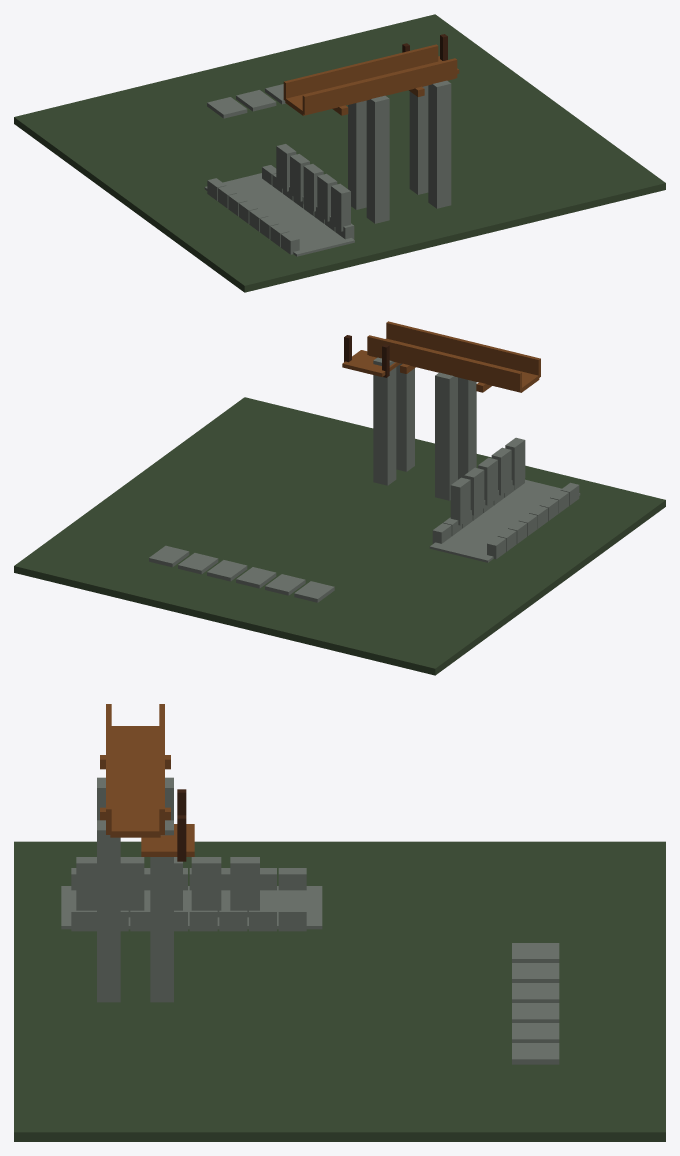
File: race.obj
3 renders of one model, top to bottom at view 1: azimuth 30°, elevation 25°; view 2: azimuth 150°, elevation 25°; view 3: azimuth 270°, elevation 25°, orthographic. The views are drawn at different scales.
Parts seen in each view (by area): view 1: race_earth, race_stone, race_wood; view 2: race_earth, race_stone, race_wood; view 3: race_earth, race_stone, race_wood, race_timber.
Boxes of the visible parts, bbox=[...] form: race_earth: bbox=[14, 14, 665, 292]; race_stone: bbox=[204, 80, 451, 256]; race_wood: bbox=[283, 44, 459, 115]; race_earth: bbox=[14, 397, 665, 675]; race_stone: bbox=[149, 357, 580, 602]; race_wood: bbox=[342, 321, 540, 392]; race_earth: bbox=[14, 841, 665, 1141]; race_stone: bbox=[61, 777, 559, 1064]; race_wood: bbox=[100, 704, 194, 856]; race_timber: bbox=[177, 789, 186, 861].
Size of the model in its own units: 11.6 by 3.96 by 11.
